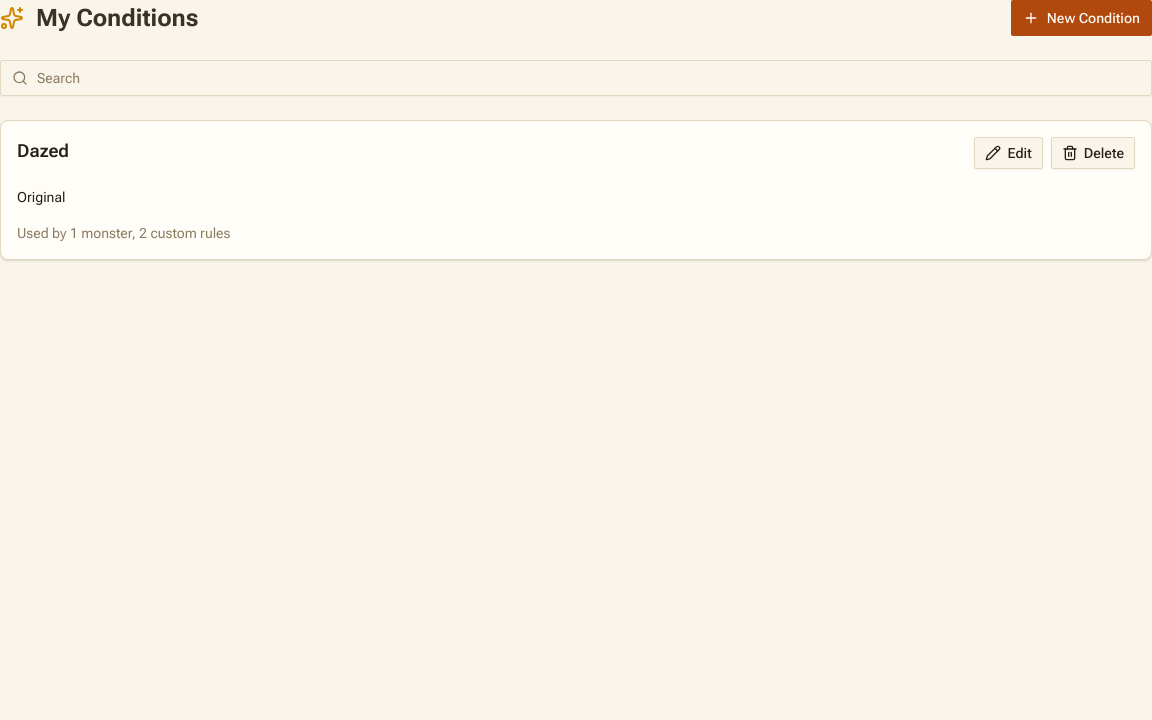
Test: ConditionsLibrary › focuses Name without opening the tooltip for New Condition
Click the button "New Condition" at (1081, 18), box left=1011, top=0, right=1151, bottom=36
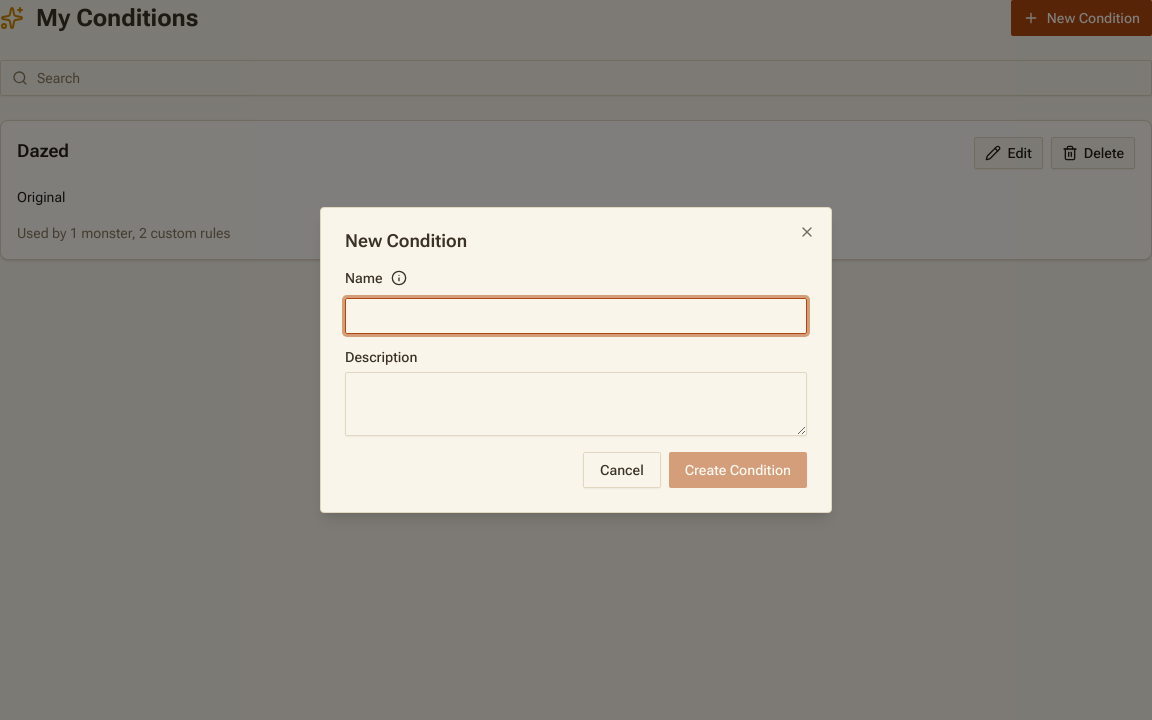
Focus the button named "About condition names" at (399, 278), box left=387, top=266, right=411, bottom=290
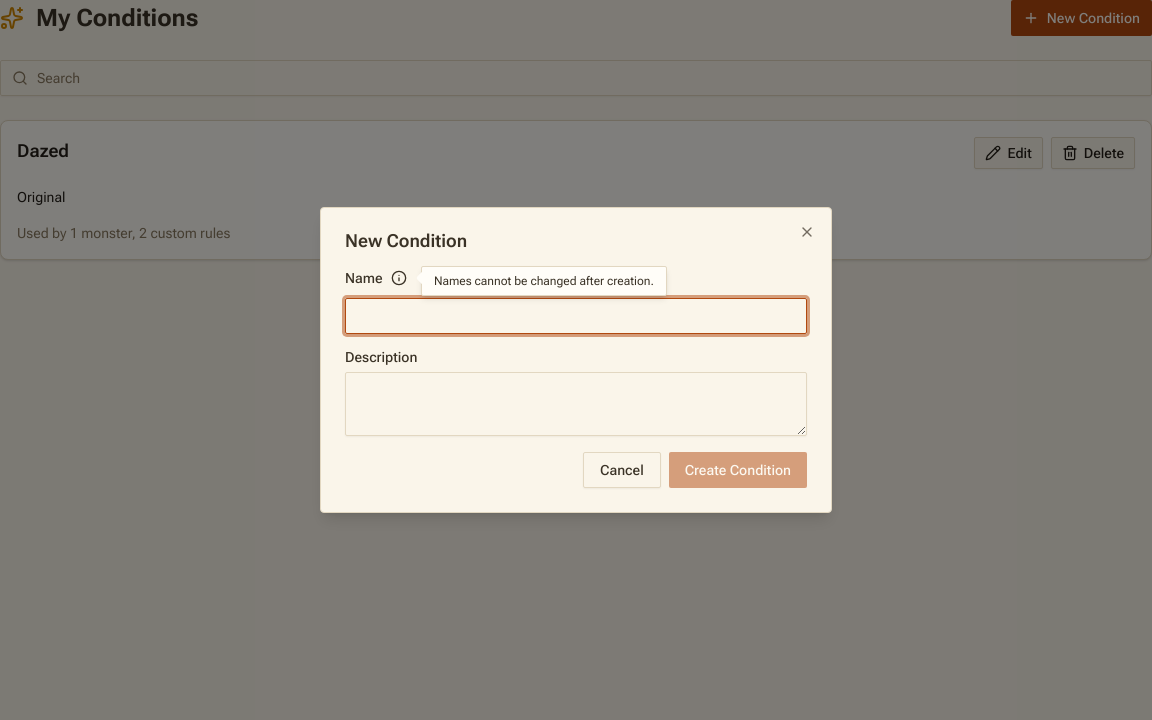
Expected: the tooltip reads "Names cannot be changed after creation.", left=434, top=274, right=654, bottom=288
